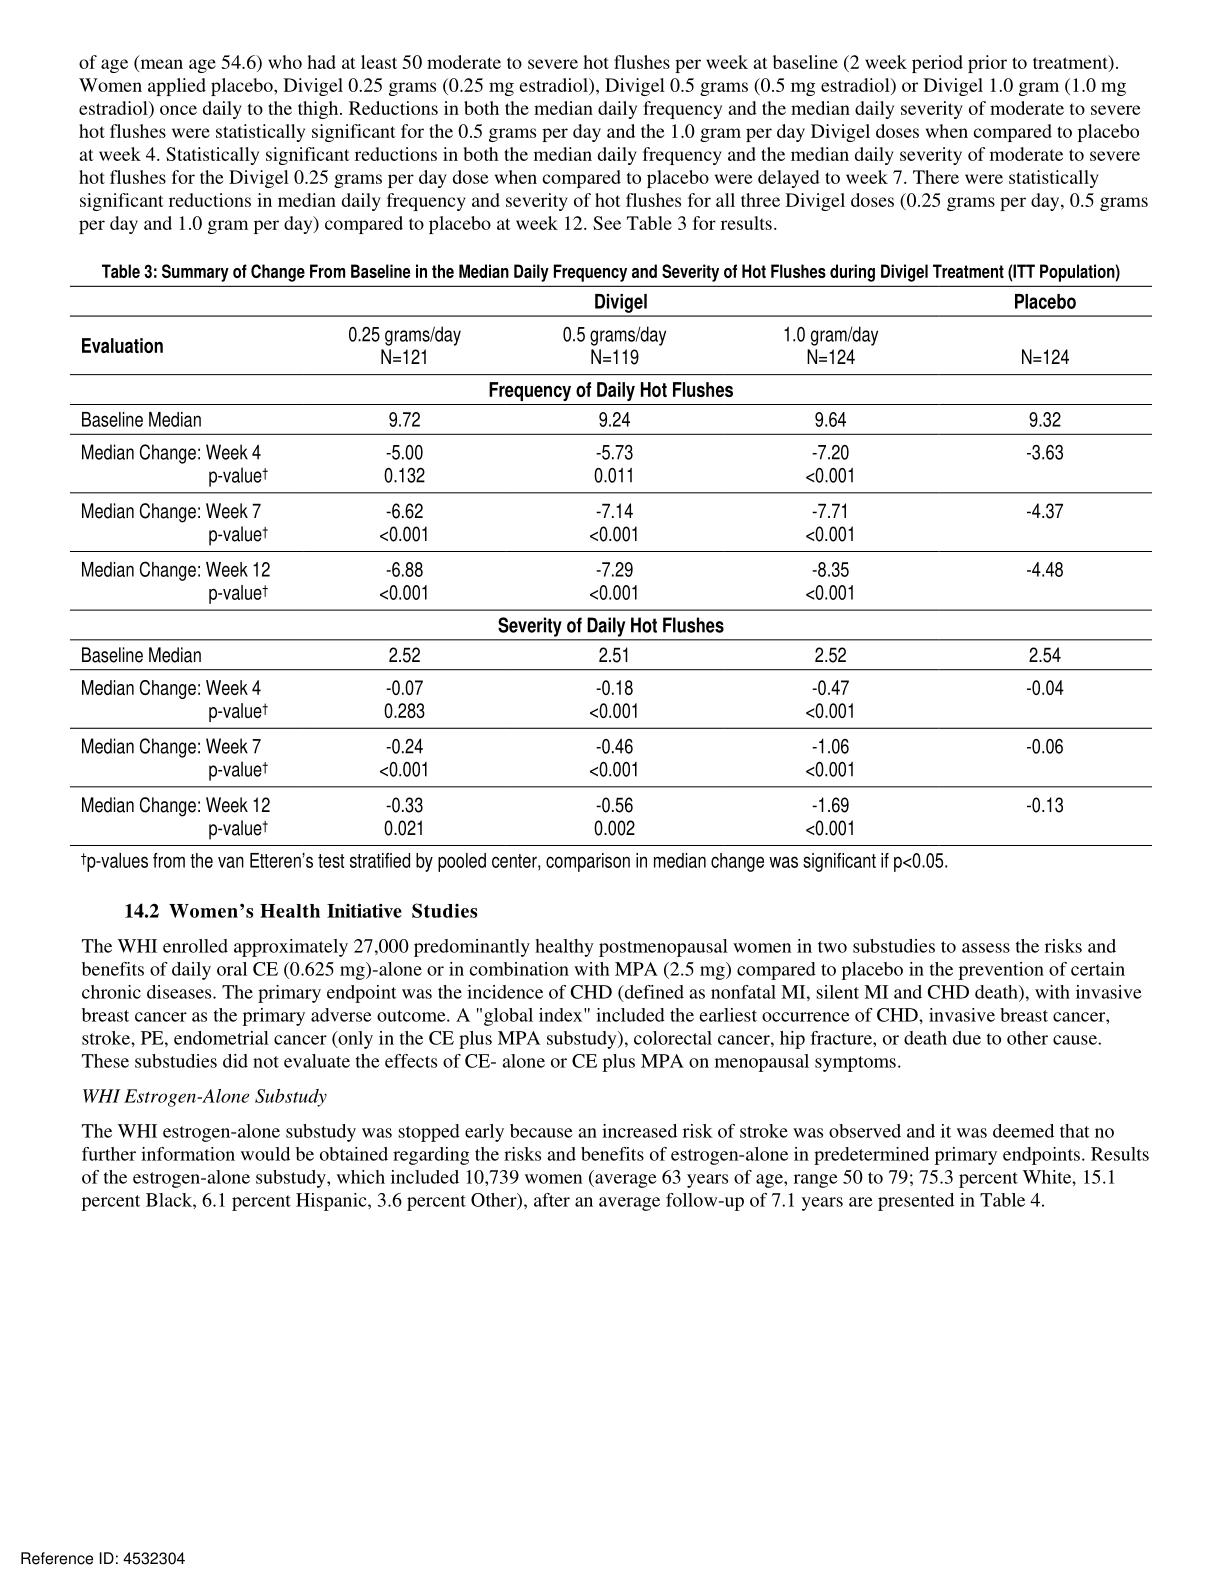partial_lined_merged_cells: (69, 283, 1155, 849)
